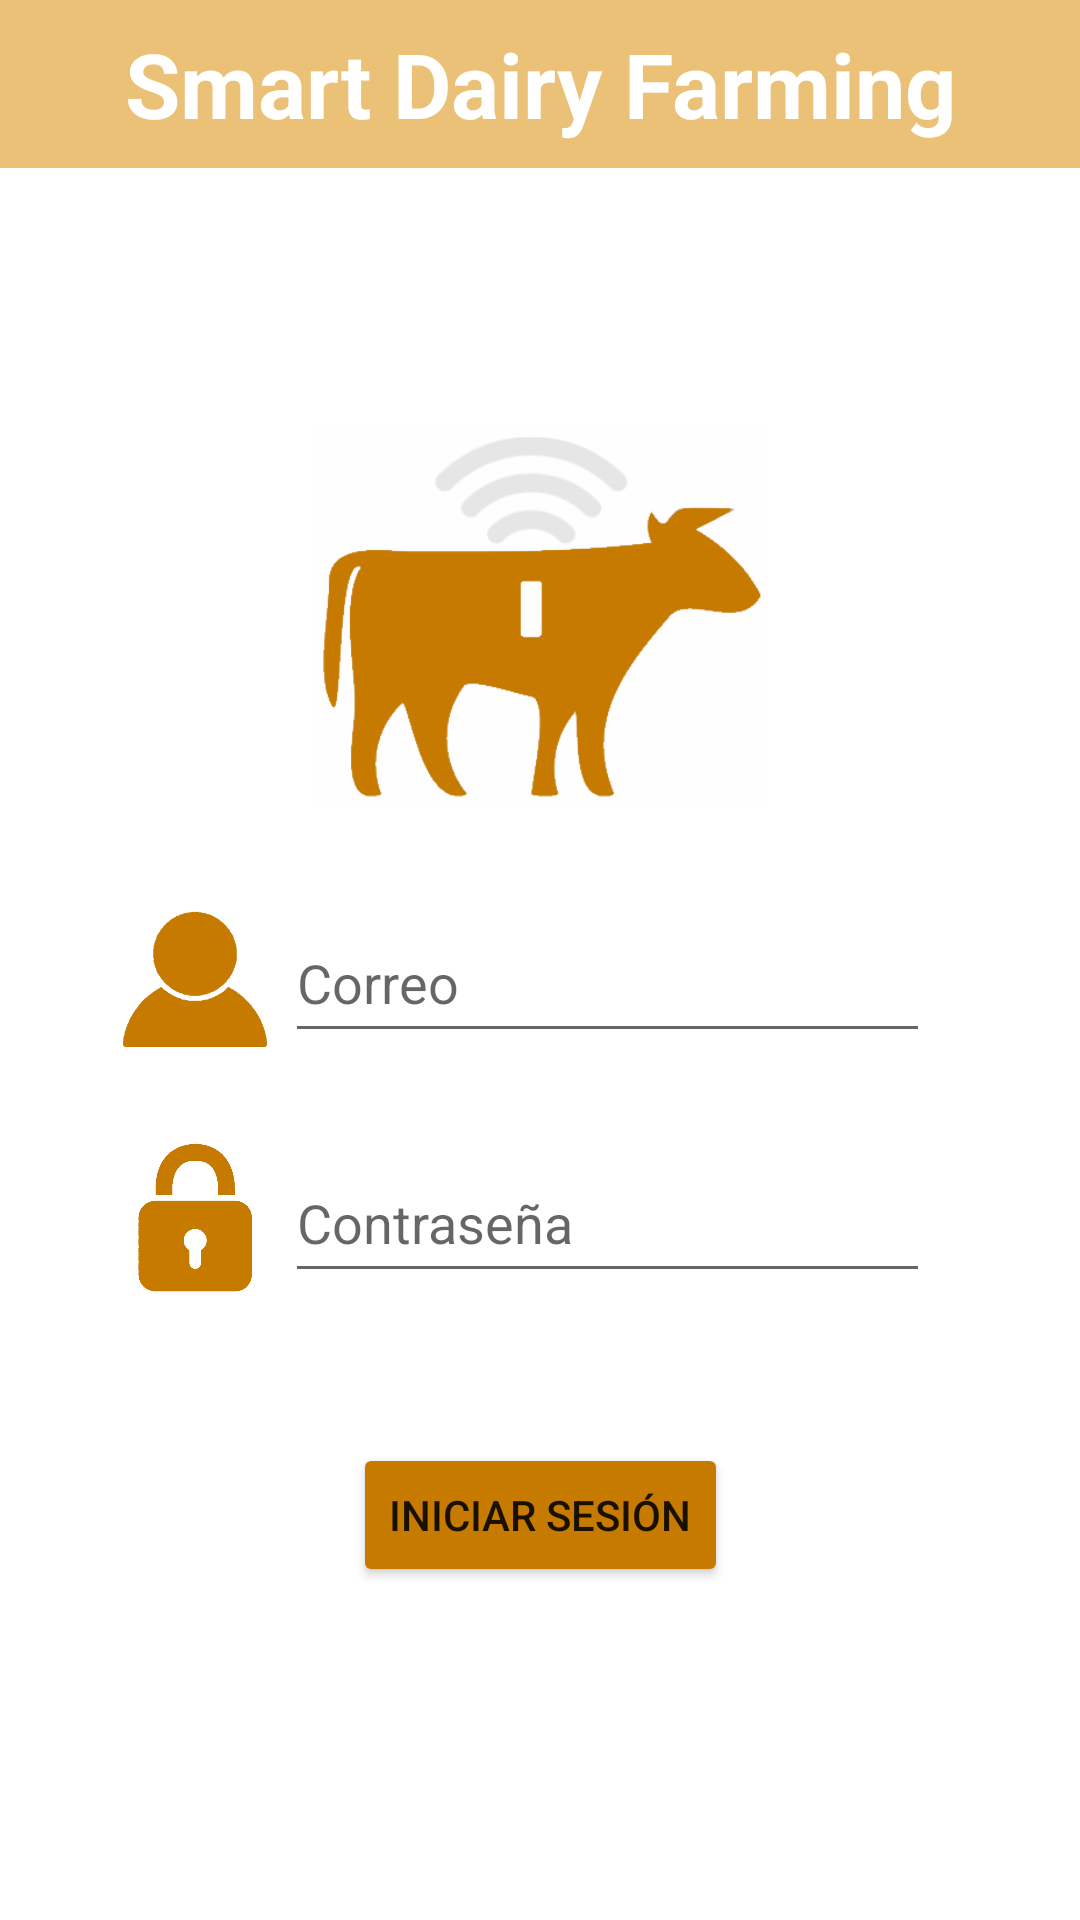

Icon click points for this 1080px x 1920px phone screenshot, format (x=x, y=y):
pass: (x=195, y=1218)
user: (x=195, y=979)
